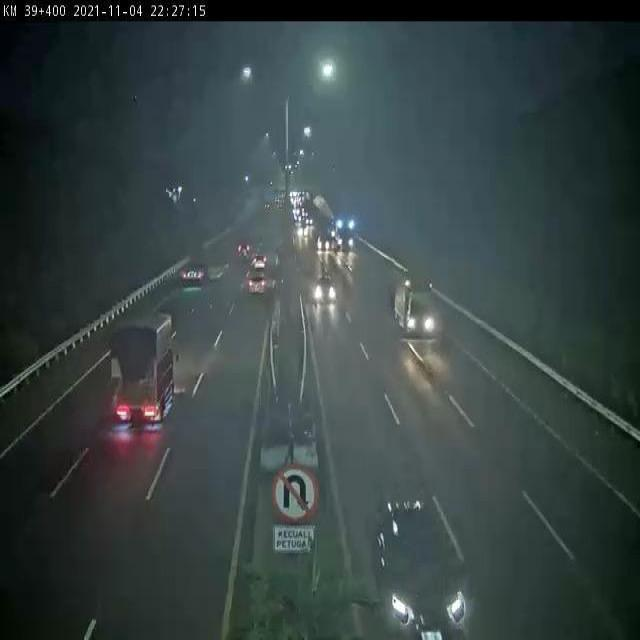car: (371, 497, 466, 640), (247, 271, 270, 295), (314, 275, 335, 300), (252, 248, 268, 271), (235, 241, 251, 259)
truck: (107, 308, 173, 427), (393, 274, 437, 338), (179, 246, 212, 282)
